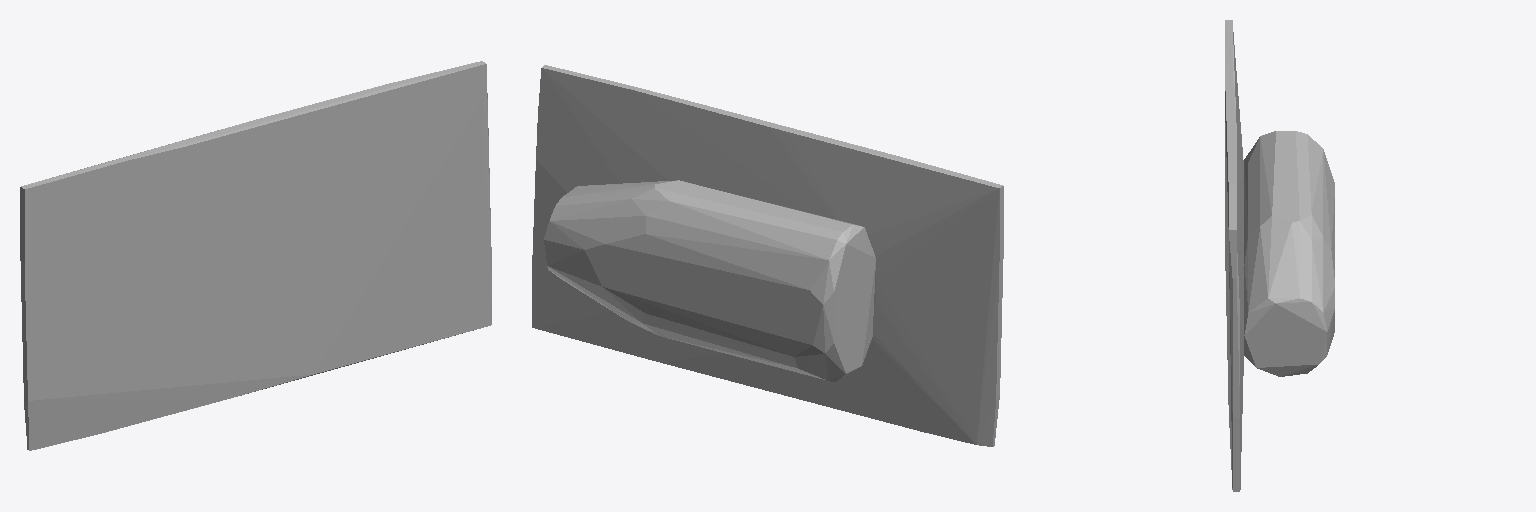
The robot description file, URDF, robot "root":
<robot name="root">
  <link name="link_kit_packaged~HamburgerSauce_800_tex_packaged_convex_piece_0">
    <inertial>
      <origin rpy="0 0 0" xyz="0 0 0"/>
      <mass value="4.15E-01"/>
      <inertia ixx="5.93E-04" ixy="7.88E-05" ixz="2.70E-05" iyy="1.95E-03" iyz="-3.78E-06" izz="1.66E-03"/>
    </inertial>
    <visual>
      <origin rpy="0 0 0" xyz="0 0 0"/>
      <geometry>
        <mesh filename="kit_packaged~HamburgerSauce_800_tex_packaged_convex_piece_0.obj" scale="1.0000E+00 1.0000E+00 1.0000E+00"/>
      </geometry>
      <material name="">
        <color rgba="7.50E-01 7.50E-01 7.50E-01 1"/>
      </material>
    </visual>
    <collision>
      <origin rpy="0 0 0" xyz="0 0 0"/>
      <geometry>
        <mesh filename="kit_packaged~HamburgerSauce_800_tex_packaged_convex_piece_0.obj" scale="1.0000E+00 1.0000E+00 1.0000E+00"/>
      </geometry>
    </collision>
  </link>
  <link name="link_kit_packaged~HamburgerSauce_800_tex_packaged_convex_piece_1">
    <inertial>
      <origin rpy="0 0 0" xyz="0 0 0"/>
      <mass value="7.65E-01"/>
      <inertia ixx="3.12E-04" ixy="6.17E-06" ixz="1.33E-05" iyy="1.33E-03" iyz="1.78E-06" izz="1.19E-03"/>
    </inertial>
    <visual>
      <origin rpy="0 0 0" xyz="0 0 0"/>
      <geometry>
        <mesh filename="kit_packaged~HamburgerSauce_800_tex_packaged_convex_piece_1.obj" scale="1.0000E+00 1.0000E+00 1.0000E+00"/>
      </geometry>
      <material name="">
        <color rgba="7.50E-01 7.50E-01 7.50E-01 1"/>
      </material>
    </visual>
    <collision>
      <origin rpy="0 0 0" xyz="0 0 0"/>
      <geometry>
        <mesh filename="kit_packaged~HamburgerSauce_800_tex_packaged_convex_piece_1.obj" scale="1.0000E+00 1.0000E+00 1.0000E+00"/>
      </geometry>
    </collision>
  </link>
  <joint name="link_kit_packaged~HamburgerSauce_800_tex_packaged_convex_piece_1_joint" type="fixed">
    <origin rpy="0 0 0" xyz="0 0 0"/>
    <parent link="link_kit_packaged~HamburgerSauce_800_tex_packaged_convex_piece_0"/>
    <child link="link_kit_packaged~HamburgerSauce_800_tex_packaged_convex_piece_1"/>
  </joint>
</robot>

--- What the picture shows (computed from the rendered views, not written in the file) ---
3 views of the same robot in one strip: view 1: azimuth 30°, elevation 25°; view 2: azimuth 150°, elevation 25°; view 3: azimuth 270°, elevation 25° (orthographic).
Model root with 2 links and 1 joints (1 fixed), rooted at link_kit_packaged~HamburgerSauce_800_tex_packaged_convex_piece_0, posed all joints at 0.
Visible links, largest first — view 1: link_kit_packaged~HamburgerSauce_800_tex_packaged_convex_piece_0; view 2: link_kit_packaged~HamburgerSauce_800_tex_packaged_convex_piece_0, link_kit_packaged~HamburgerSauce_800_tex_packaged_convex_piece_1; view 3: link_kit_packaged~HamburgerSauce_800_tex_packaged_convex_piece_1, link_kit_packaged~HamburgerSauce_800_tex_packaged_convex_piece_0.
Link boxes in pixels (box(x1,y1,x2,y2)): link_kit_packaged~HamburgerSauce_800_tex_packaged_convex_piece_0: box(20, 61, 491, 450); link_kit_packaged~HamburgerSauce_800_tex_packaged_convex_piece_0: box(532, 65, 1003, 446); link_kit_packaged~HamburgerSauce_800_tex_packaged_convex_piece_1: box(544, 180, 875, 381); link_kit_packaged~HamburgerSauce_800_tex_packaged_convex_piece_1: box(1244, 131, 1334, 376); link_kit_packaged~HamburgerSauce_800_tex_packaged_convex_piece_0: box(1225, 20, 1243, 491).
Bounding box of the posed robot: 0.2229 × 0.0466 × 0.1248 m (x, y, z).
2 mesh visuals loaded from 2 distinct referenced files (2 OBJ).
